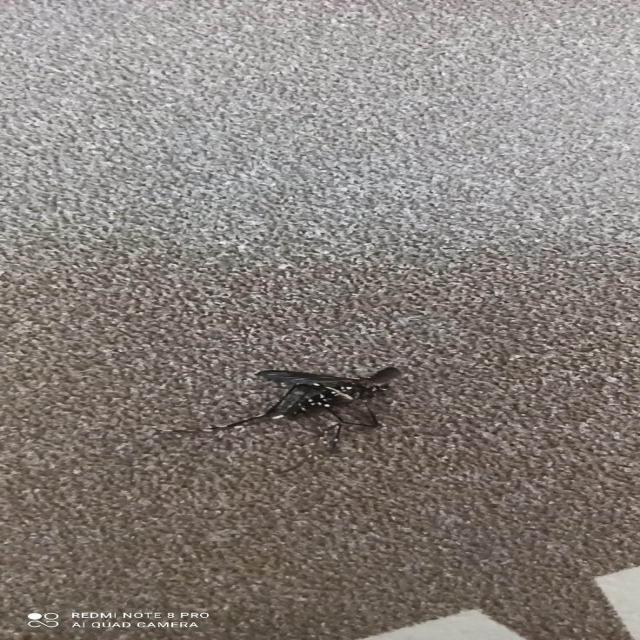albopictus: (200, 362, 413, 454)
